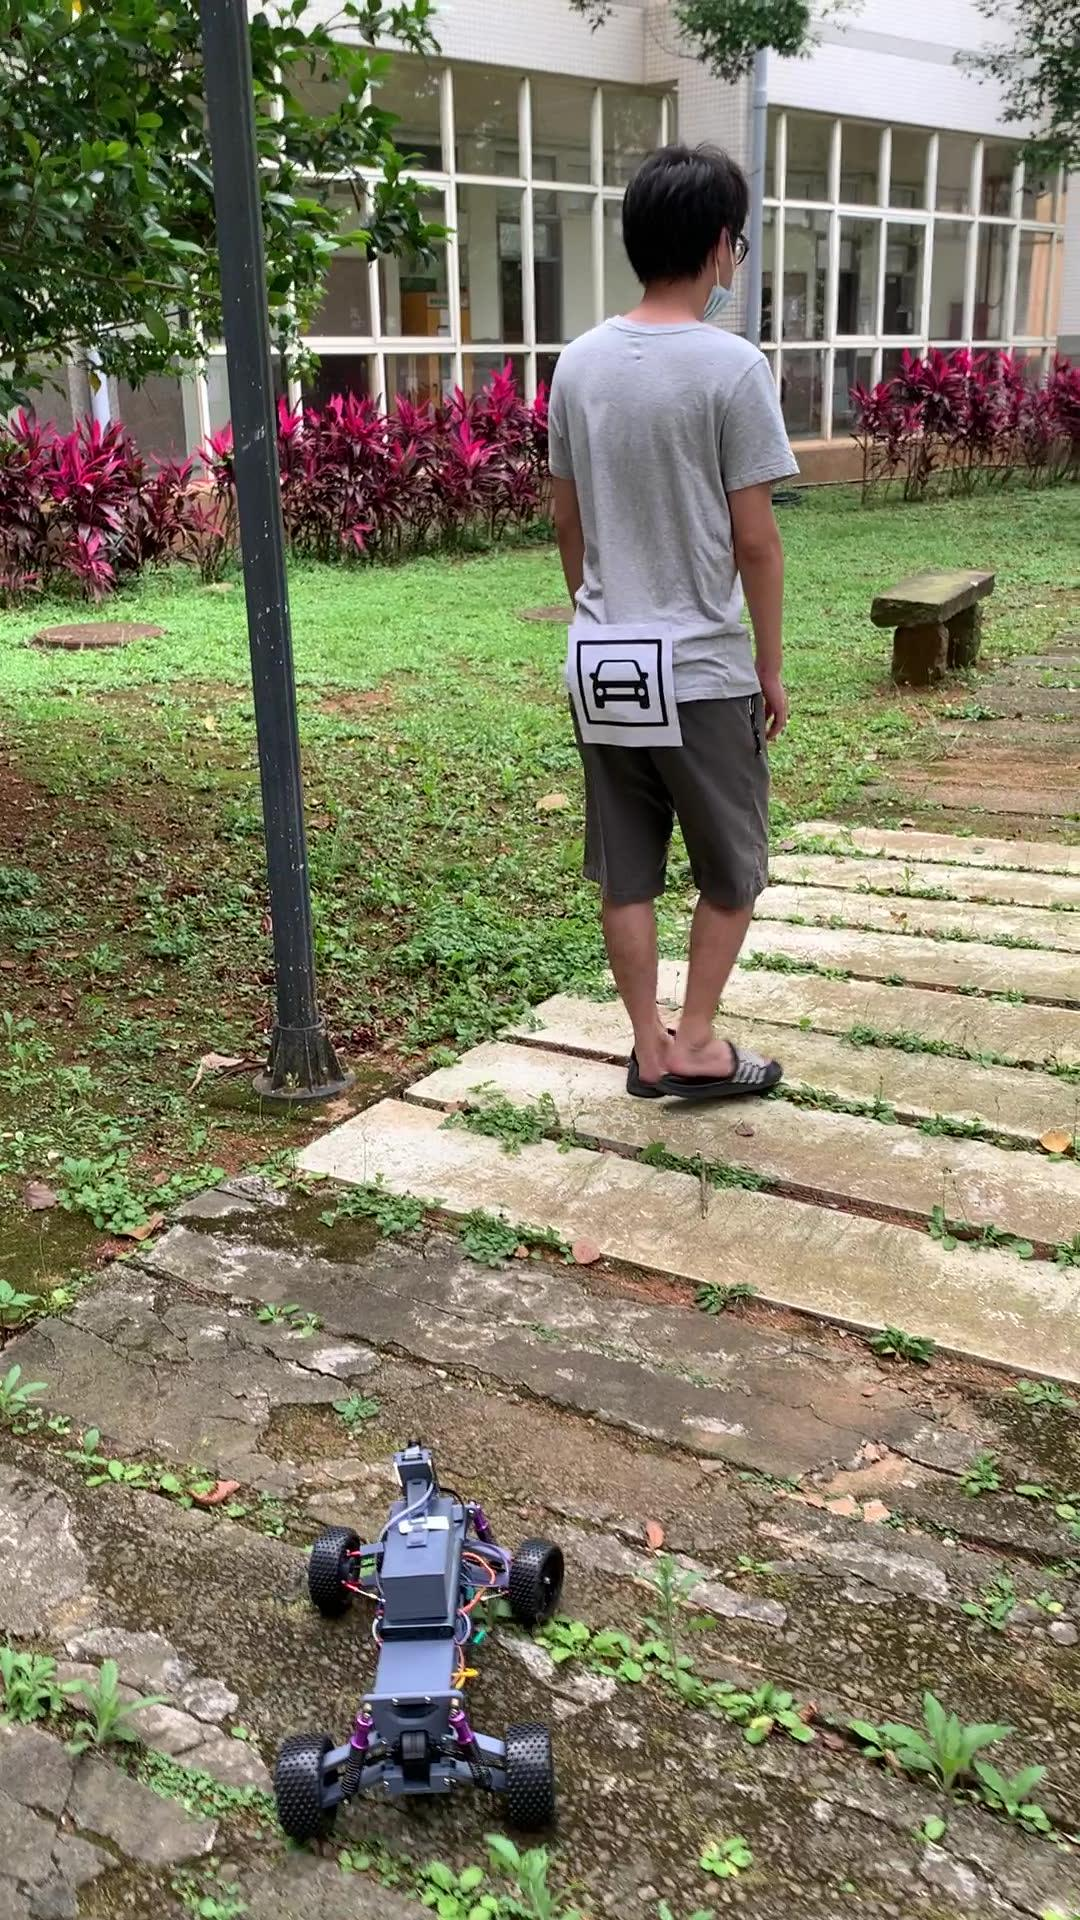car_img: (575, 638, 670, 728)
